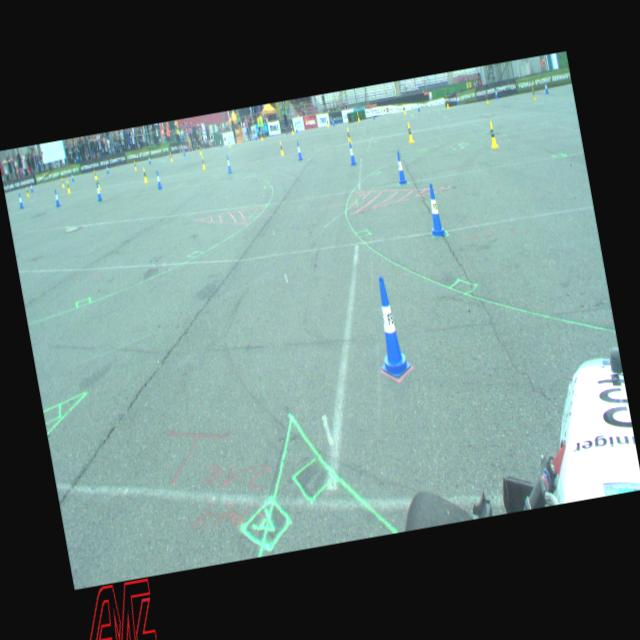blue_cone: (365, 273, 413, 382), (422, 182, 446, 238), (393, 150, 407, 185), (346, 140, 356, 166), (294, 140, 302, 160), (154, 170, 162, 190), (52, 188, 60, 207), (94, 182, 102, 201), (225, 154, 232, 174), (16, 192, 24, 208), (543, 80, 549, 94), (494, 88, 498, 99), (456, 94, 460, 105), (105, 164, 109, 174), (29, 182, 33, 192), (416, 102, 420, 112), (294, 123, 298, 133), (147, 155, 151, 164), (182, 147, 186, 156), (370, 110, 374, 119), (218, 138, 222, 147), (331, 118, 335, 126), (71, 173, 74, 182), (254, 132, 256, 140)
yellow_cone: (486, 120, 498, 150), (405, 121, 414, 143), (345, 126, 352, 144), (142, 166, 148, 182), (278, 140, 284, 156), (200, 155, 206, 170), (530, 86, 536, 100), (444, 96, 449, 108), (66, 179, 70, 193), (484, 93, 489, 104), (96, 177, 100, 190), (60, 176, 64, 188), (259, 130, 263, 142), (356, 112, 361, 121), (25, 186, 29, 197), (133, 160, 137, 171), (402, 103, 406, 114), (169, 151, 173, 162), (326, 117, 330, 128), (92, 169, 96, 179), (290, 124, 294, 134), (227, 138, 231, 147), (198, 146, 202, 154)
